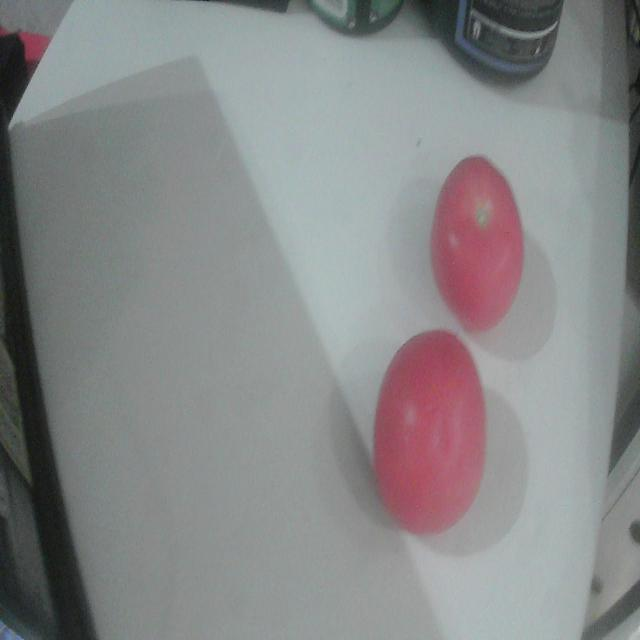Tomato: (374, 331, 486, 535), (431, 157, 524, 332)
